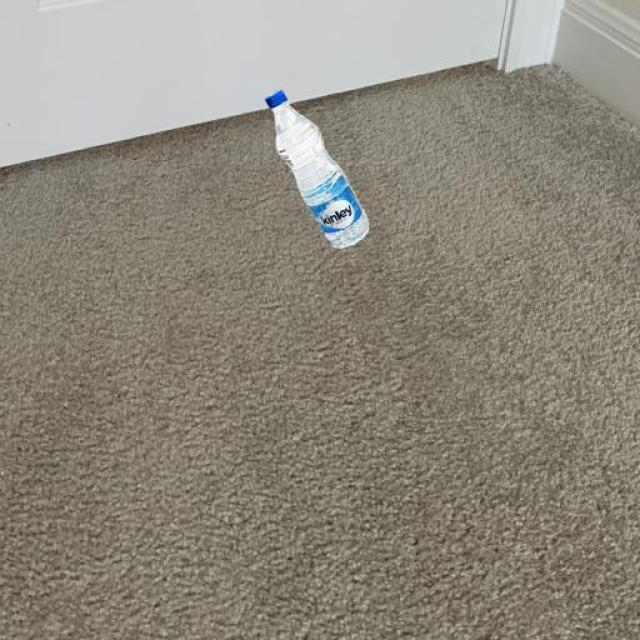bottle: (264, 88, 370, 248)
